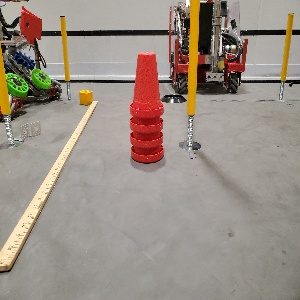Red_4: (123, 44, 168, 167)
